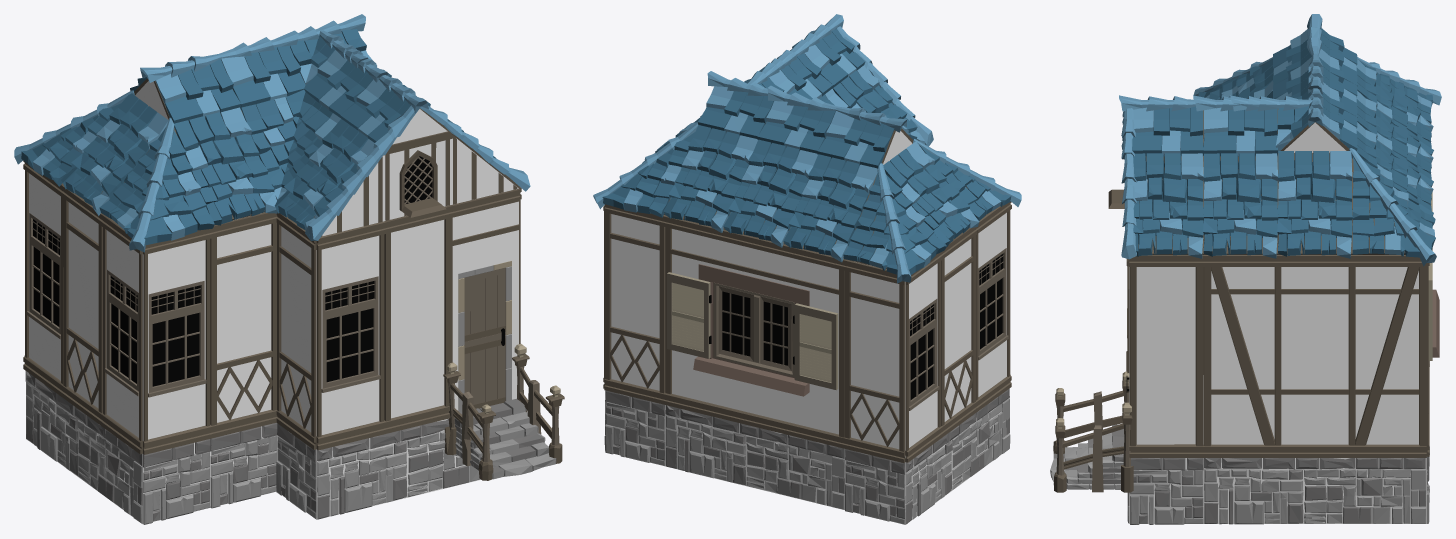
Rendered from house_06_full.glb.
3 renders of one model, left to right at view 1: azimuth 30°, elevation 25°; view 2: azimuth 150°, elevation 25°; view 3: azimuth 270°, elevation 25°, orthographic. The views are drawn at different scales.
Visible parts, largest first — view 1: WINDOW_04_3, WALL_03_3, WINDOW_04_4, WALL_01_3, DOOR_02_2, FOUNDATION_02_10, STAIRS_06_3, WALL_01_4, WALL_01_2, WINDOW_04_5, WINDOW_04_6, FOUNDATION_02_11 (+24 smaller); view 2: WINDOW_06_2, WALL_01_5, WALL_01_6, FOUNDATION_02_12, WINDOW_04_6, WINDOW_04_5, WALL_01_4, FOUNDATION_02_11, ROOF_corner_out_3, ROOF_base_8, ROOF_base_6, ROOF_base_7 (+16 smaller); view 3: WALL_02_2, WALL_03_4, FOUNDATION_02_13, ROOF_base_5, ROOF_base_4, ROOF_base_3, STAIRS_06_3, ROOF_corner_out_2, FOUNDATION_03_11, ROOF_base_small_5, ROOF_base_small_4, ROOF_base_6 (+21 smaller).
Part boxes in pixels (left/top/right/bottom): WINDOW_04_3: left=316, top=221, right=385, bottom=450; WALL_03_3: left=384, top=205, right=452, bottom=433; WINDOW_04_4: left=143, top=229, right=211, bottom=454; WALL_01_3: left=210, top=212, right=277, bottom=438; DOOR_02_2: left=452, top=188, right=520, bottom=412; FOUNDATION_02_10: left=316, top=418, right=480, bottom=519; STAIRS_06_3: left=443, top=344, right=564, bottom=480; WALL_01_4: left=62, top=185, right=102, bottom=425; WALL_01_2: left=276, top=212, right=316, bottom=449; WINDOW_04_5: left=101, top=214, right=142, bottom=454; WINDOW_04_6: left=23, top=161, right=63, bottom=396; FOUNDATION_02_11: left=26, top=371, right=143, bottom=523; WINDOW_06_2: left=664, top=215, right=844, bottom=448; WALL_01_5: left=844, top=259, right=905, bottom=462; WALL_01_6: left=604, top=204, right=665, bottom=404; FOUNDATION_02_12: left=665, top=405, right=845, bottom=509; WINDOW_04_6: left=905, top=251, right=942, bottom=462; WINDOW_04_5: left=975, top=201, right=1011, bottom=411; WALL_01_4: left=941, top=227, right=976, bottom=436; FOUNDATION_02_11: left=903, top=389, right=1010, bottom=524; ROOF_corner_out_3: left=843, top=163, right=946, bottom=283; ROOF_base_8: left=783, top=154, right=877, bottom=262; ROOF_base_6: left=663, top=125, right=757, bottom=232; ROOF_base_7: left=723, top=139, right=817, bottom=247; WALL_02_2: left=1203, top=255, right=1426, bottom=457; WALL_03_4: left=1129, top=255, right=1203, bottom=457; FOUNDATION_02_13: left=1203, top=458, right=1426, bottom=524; ROOF_base_5: left=1277, top=151, right=1352, bottom=258; ROOF_base_4: left=1203, top=153, right=1278, bottom=258; ROOF_base_3: left=1129, top=153, right=1203, bottom=258; STAIRS_06_3: left=1050, top=371, right=1133, bottom=492; ROOF_corner_out_2: left=1348, top=148, right=1436, bottom=266; FOUNDATION_03_11: left=1129, top=458, right=1203, bottom=524; ROOF_base_small_5: left=1203, top=107, right=1277, bottom=156; ROOF_base_small_4: left=1132, top=106, right=1203, bottom=156; ROOF_base_6: left=1356, top=122, right=1433, bottom=215.
Bounding box in the file's own units: 5.41 × 5.65 × 5.27.
1 material, 1 textured.
